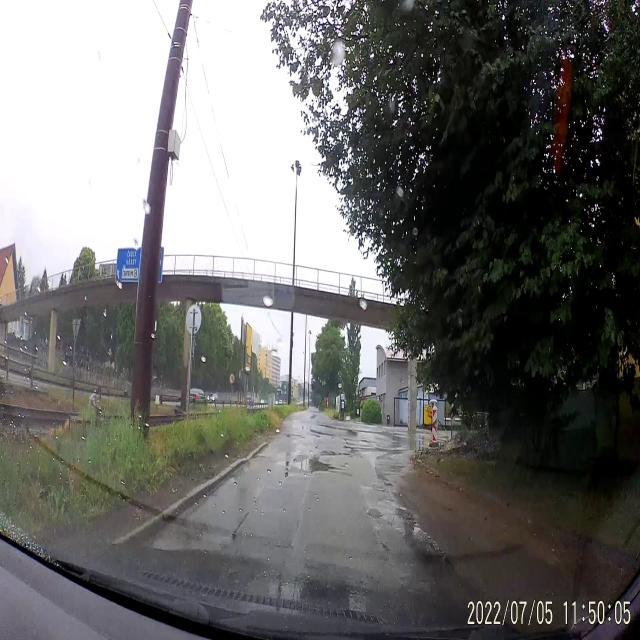Pothole: (284, 458, 334, 480), (286, 432, 304, 444), (322, 449, 349, 456), (230, 526, 240, 542), (373, 486, 387, 494), (341, 462, 349, 472), (311, 432, 320, 440)
